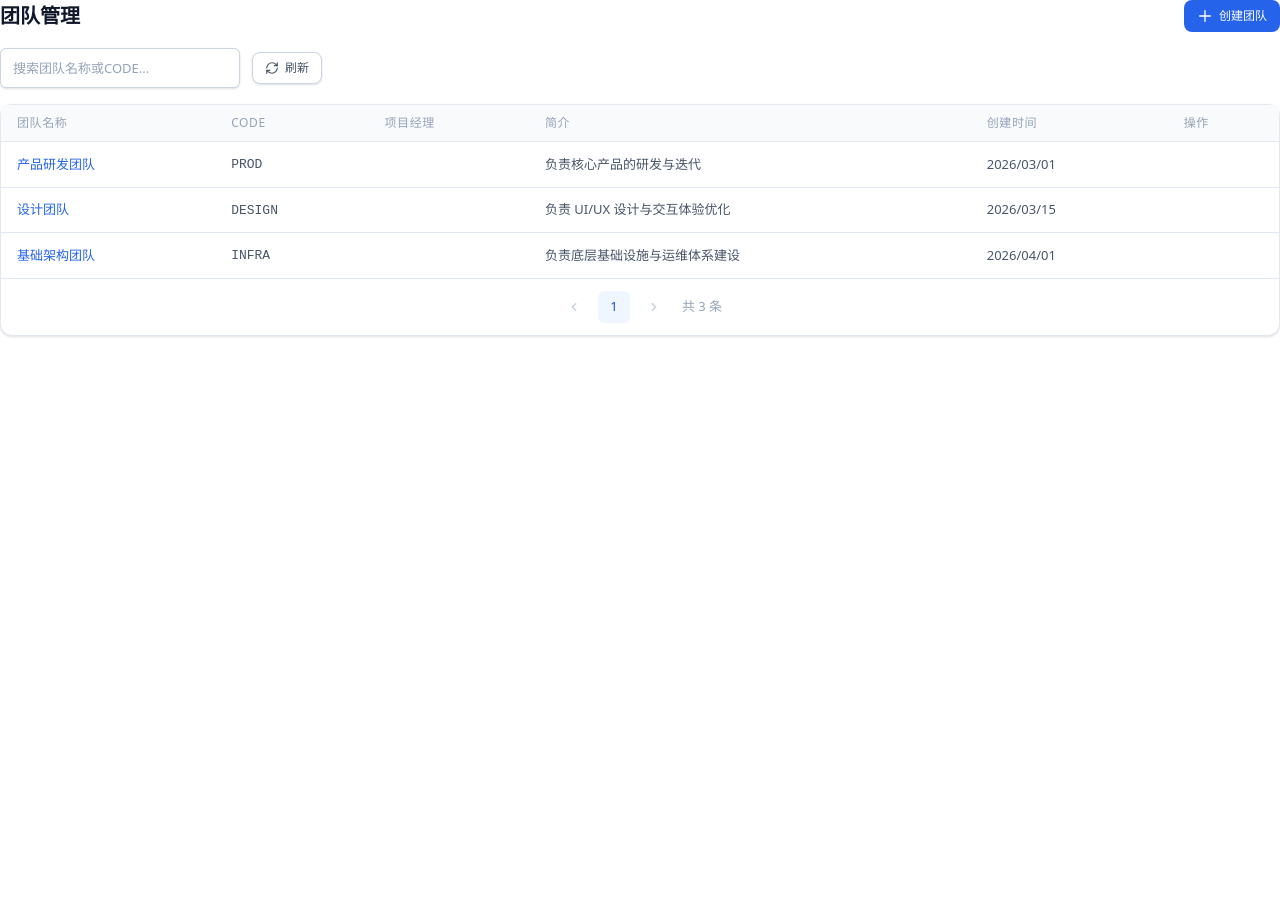
Test case: TeamManagementPage › creates team successfully
Expected: the link "产品研发团队" is shown, [17, 154, 95, 172]
Click the button "创建团队". click: (1232, 16)
box: [1184, 0, 1279, 32]
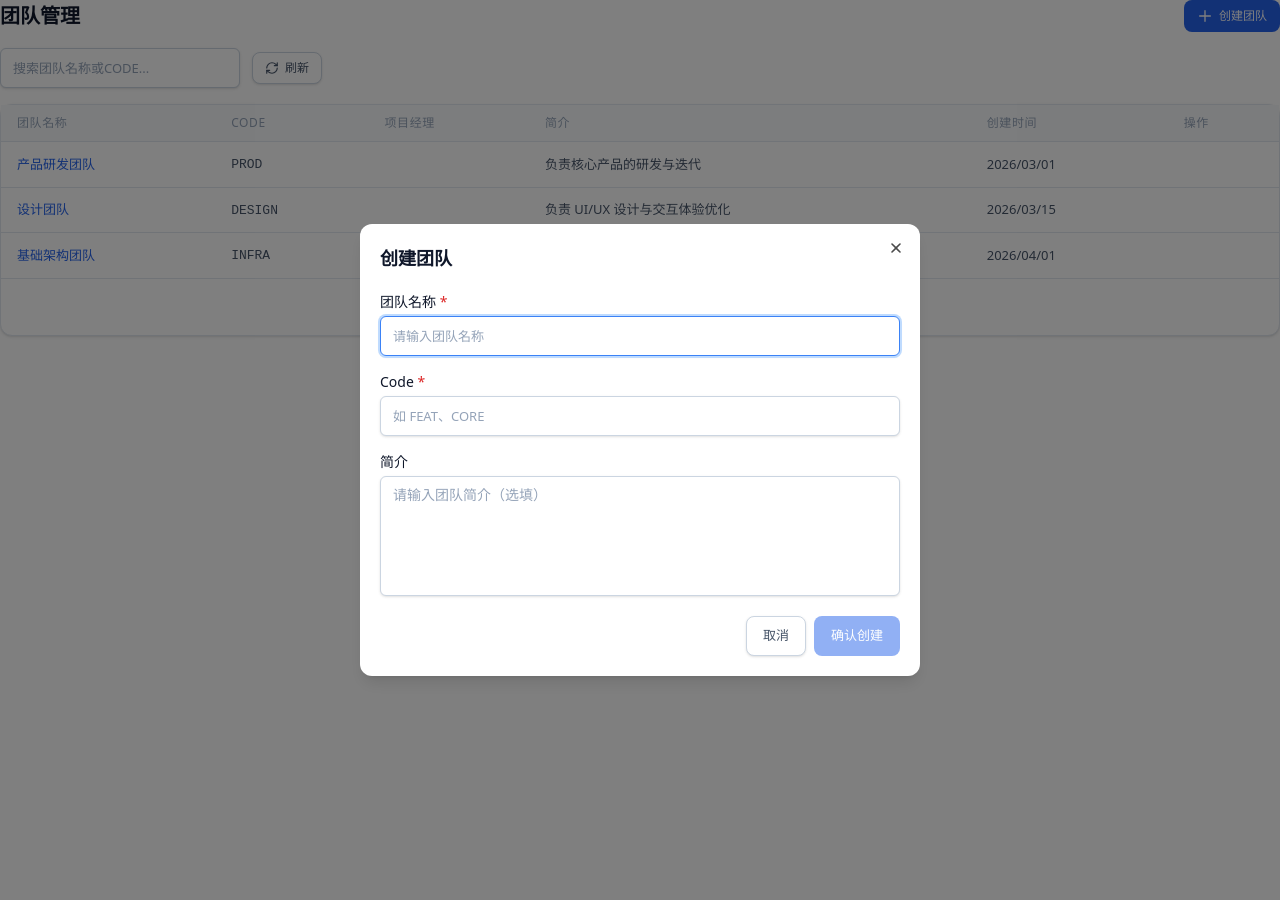
Now the heading "创建团队" is shown, box [380, 246, 452, 270]
# Fill form
Type "新团队" into the field with placeholder "请输入团队名称". click: (640, 336)
box: [380, 316, 900, 356]
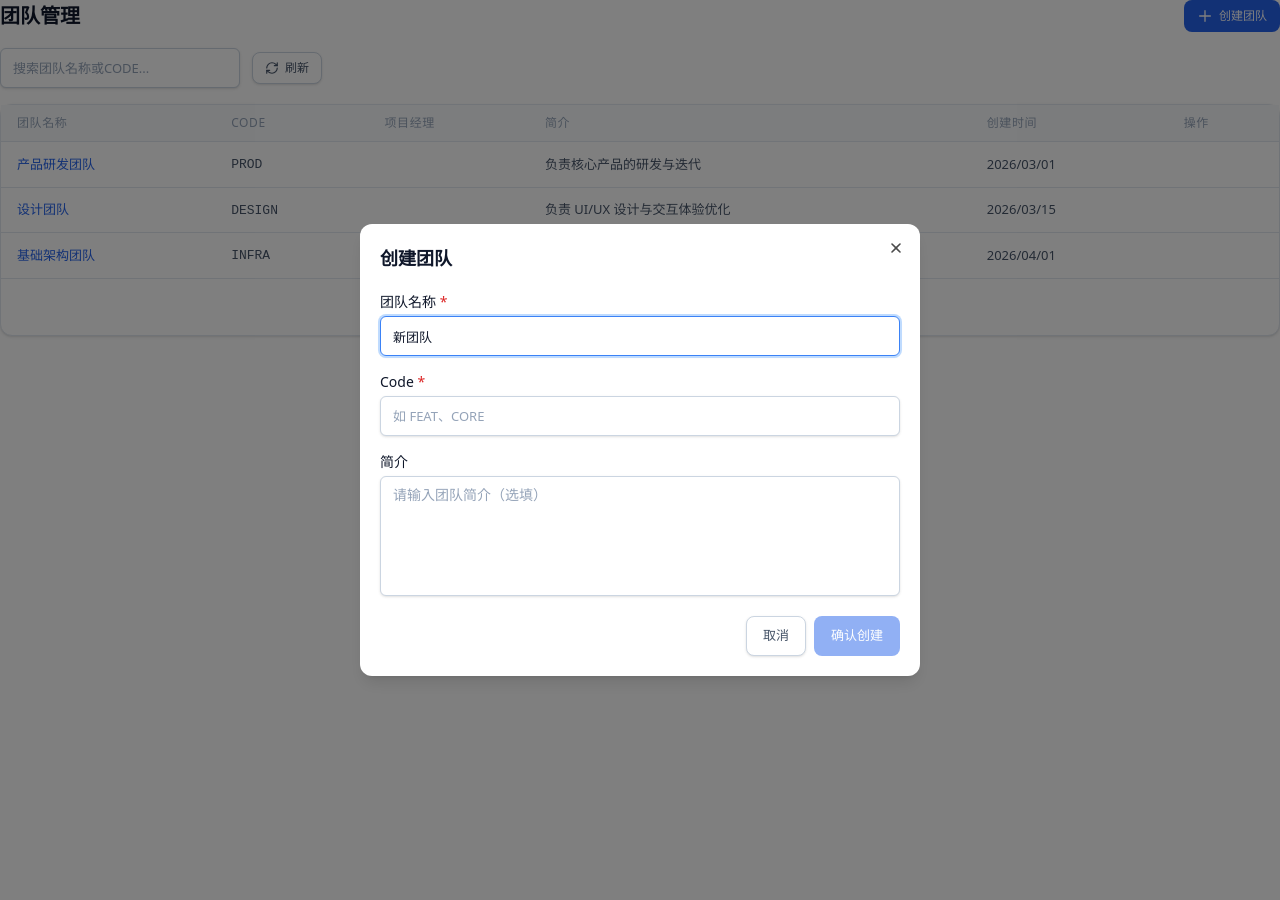
Type "FEAT" into the field with placeholder "如 FEAT、CORE". click: (640, 416)
box: [380, 396, 900, 436]
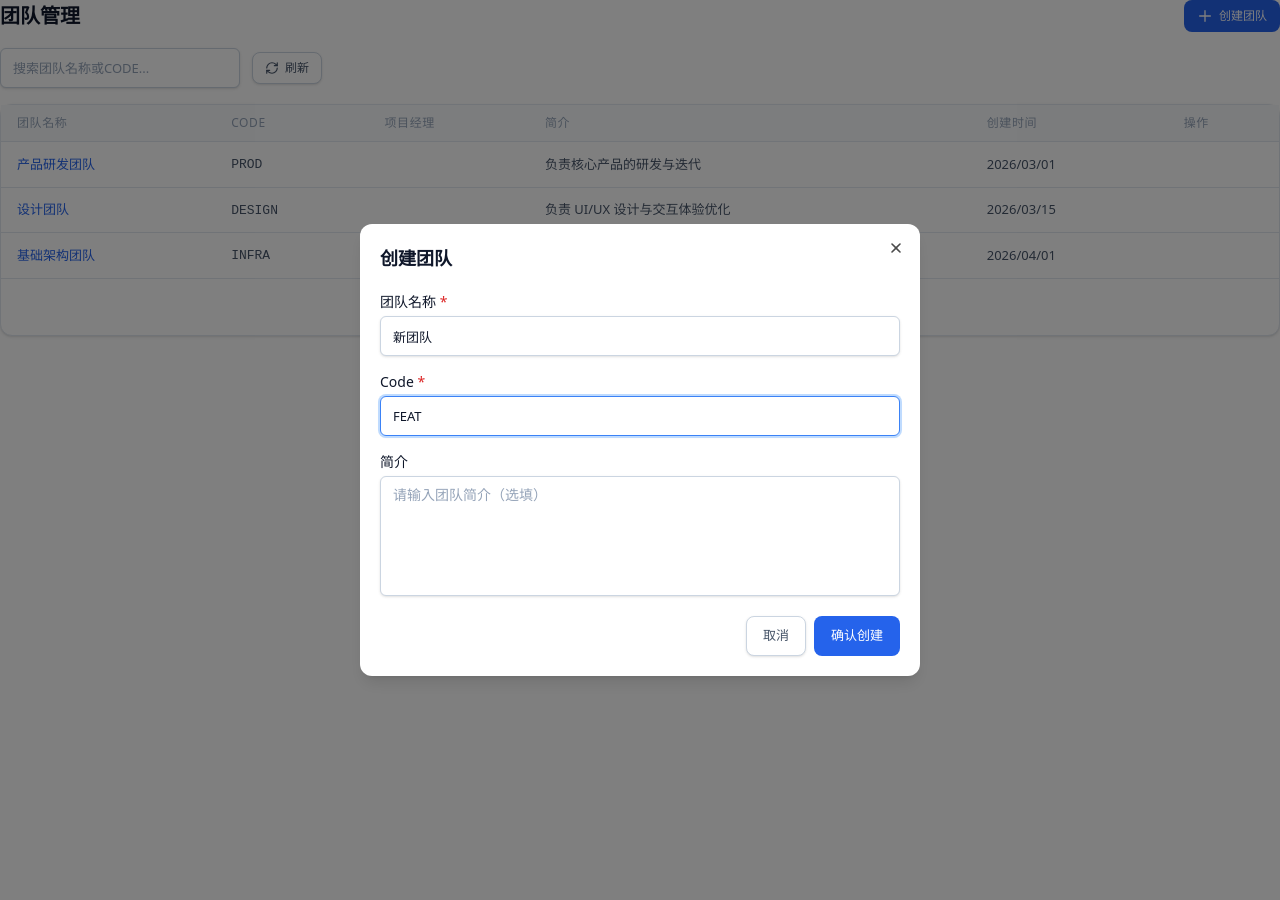
Click the button "确认创建". click: (857, 636)
box: [814, 616, 900, 656]
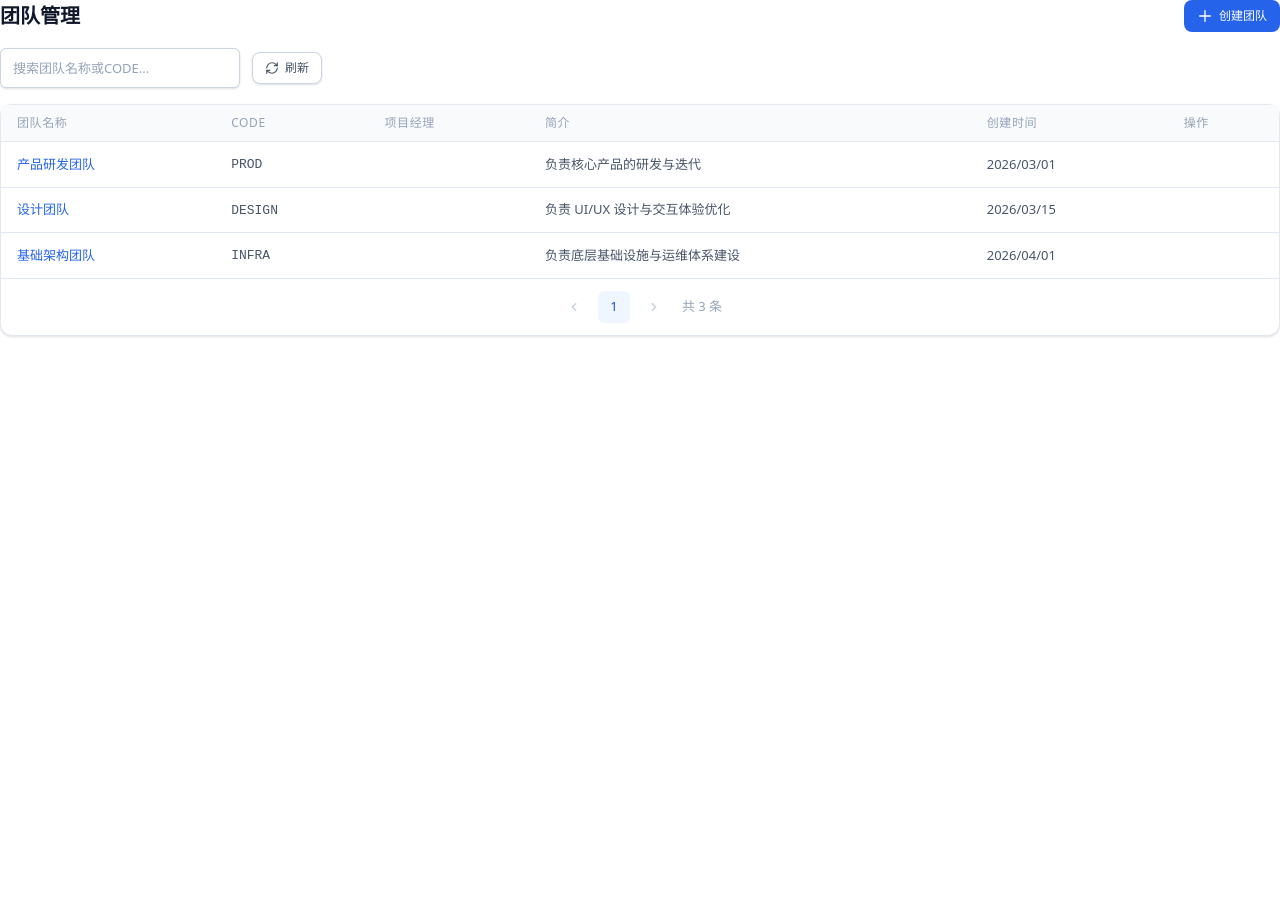
Now the button "确认创建" is gone
